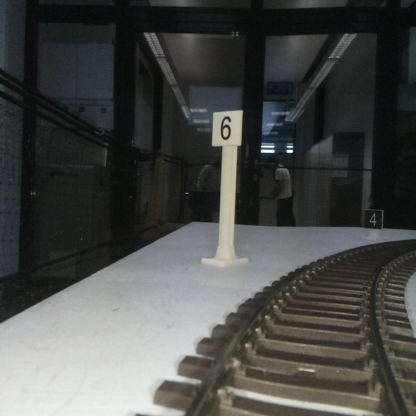black-stop-4: (364, 210, 382, 239)
white-info-6: (212, 111, 243, 265)
